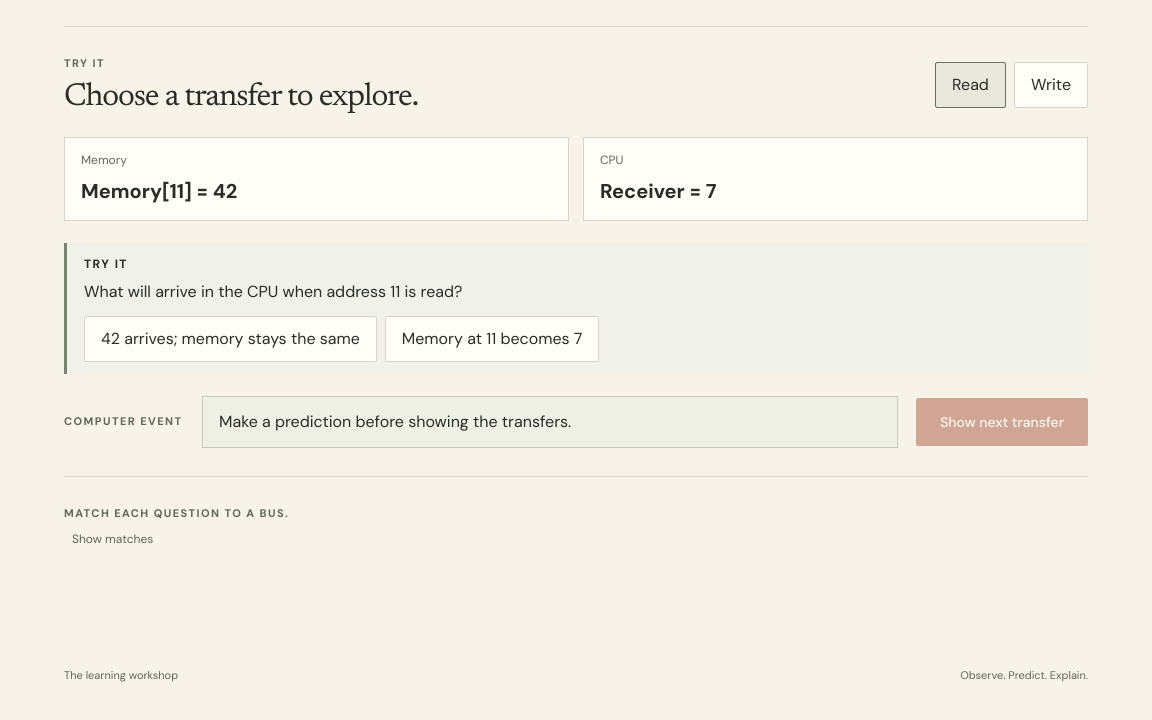
it: bus matching answers stay hidden until the learner chooses to reveal them
(page scrolled)
Check: the text "Address bus" is not shown
Click the button "Show matches": (113, 540) [64,522,161,557]
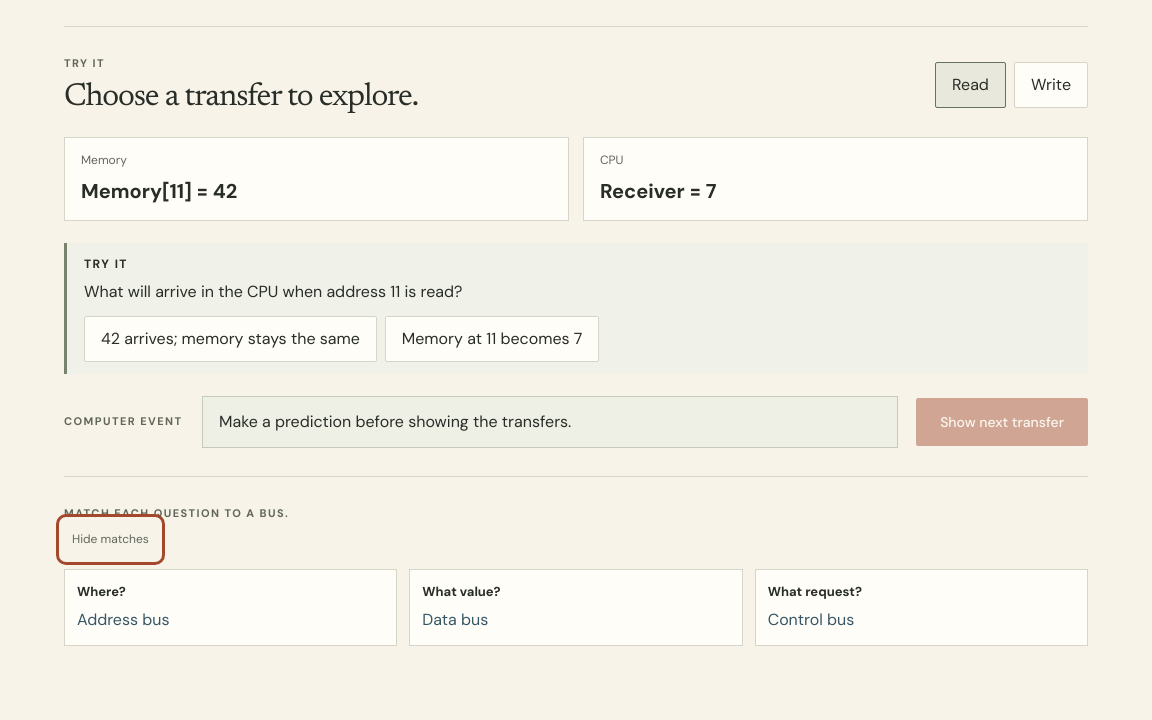
Check: the text "Address bus" is shown, box [77,609,170,630]
Check: the button "Hide matches" is shown, box [64,522,157,557]
